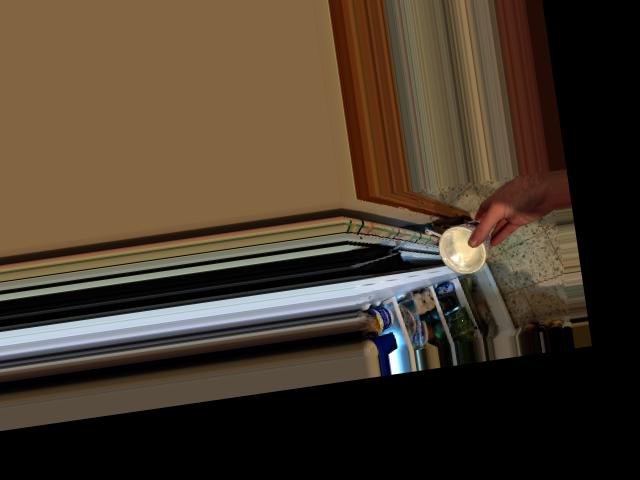cotage: (430, 215, 489, 273)
